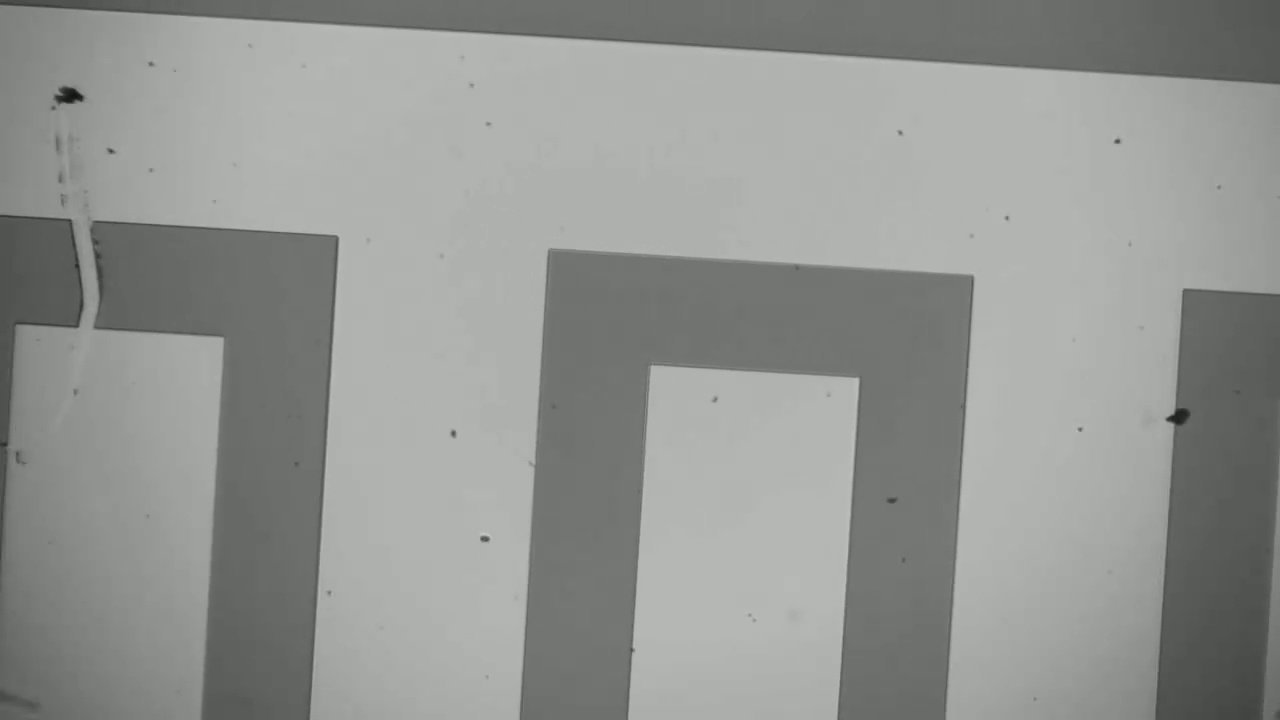Short_circuit: (62, 164, 124, 358)
